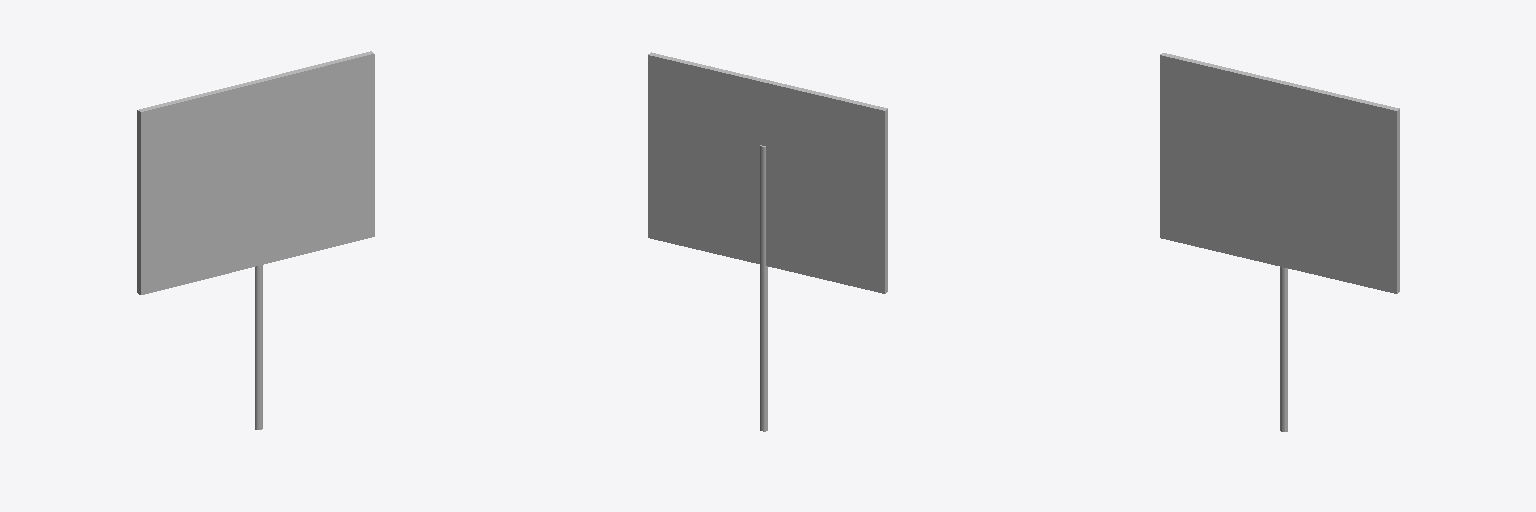
File: board_11.obj
The picture shows the model from 3 angles: view 1: azimuth 30°, elevation 25°; view 2: azimuth 150°, elevation 25°; view 3: azimuth 330°, elevation 25°; orthographic projection.
Parts seen in each view (by area): view 1: Cube.015_Cube.016, Cylinder.015; view 2: Cube.015_Cube.016, Cylinder.015; view 3: Cube.015_Cube.016, Cylinder.015.
Part boxes in pixels (x1,y1,x2,y2): Cube.015_Cube.016: (137, 51, 374, 294); Cylinder.015: (255, 265, 262, 429); Cube.015_Cube.016: (648, 52, 887, 293); Cylinder.015: (760, 145, 767, 431); Cube.015_Cube.016: (1160, 53, 1399, 293); Cylinder.015: (1280, 267, 1287, 431).
Bounding box in the file's own units: 0.3464 × 0.4895 × 0.0134.